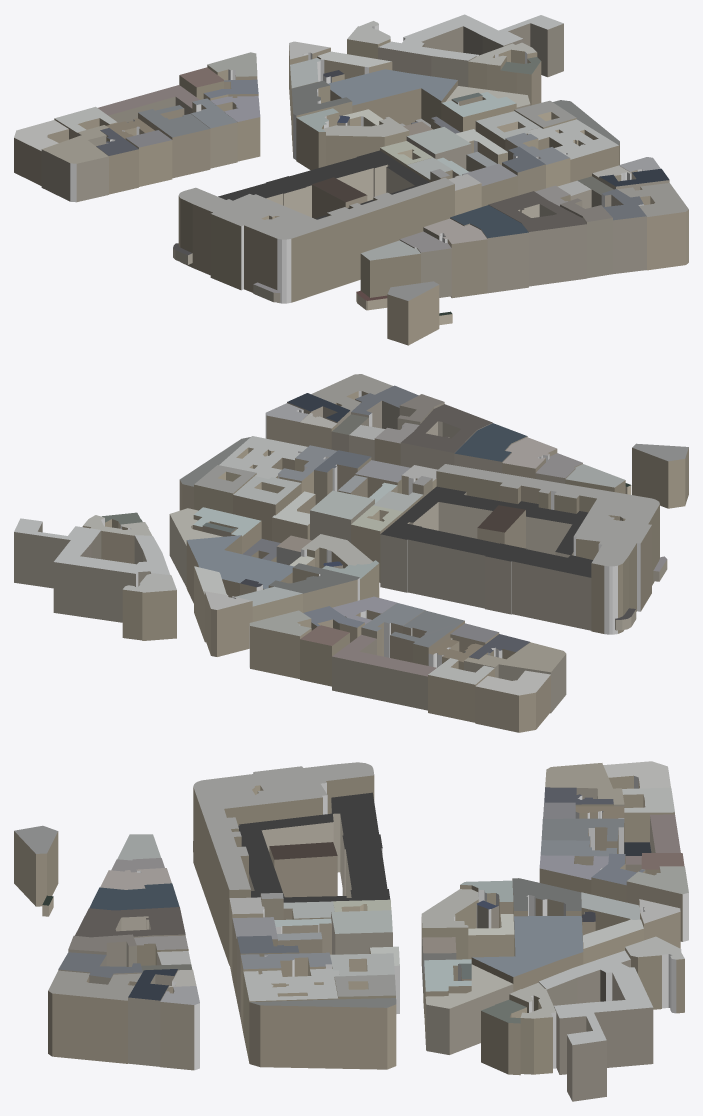
The picture shows the model from 3 angles, top to bottom: view 1: azimuth 30°, elevation 25°; view 2: azimuth 150°, elevation 25°; view 3: azimuth 270°, elevation 25°; orthographic projection. The views are drawn at different scales.
Visible parts, largest first — view 1: tuile; view 2: tuile; view 3: tuile.
Boxes of the visible parts, box(x1,y1,x2,y2) form: tuile: box(14, 14, 688, 345); tuile: box(14, 374, 688, 732); tuile: box(14, 761, 688, 1101).
Size of the model in its own units: 280 by 33.13 by 267.
